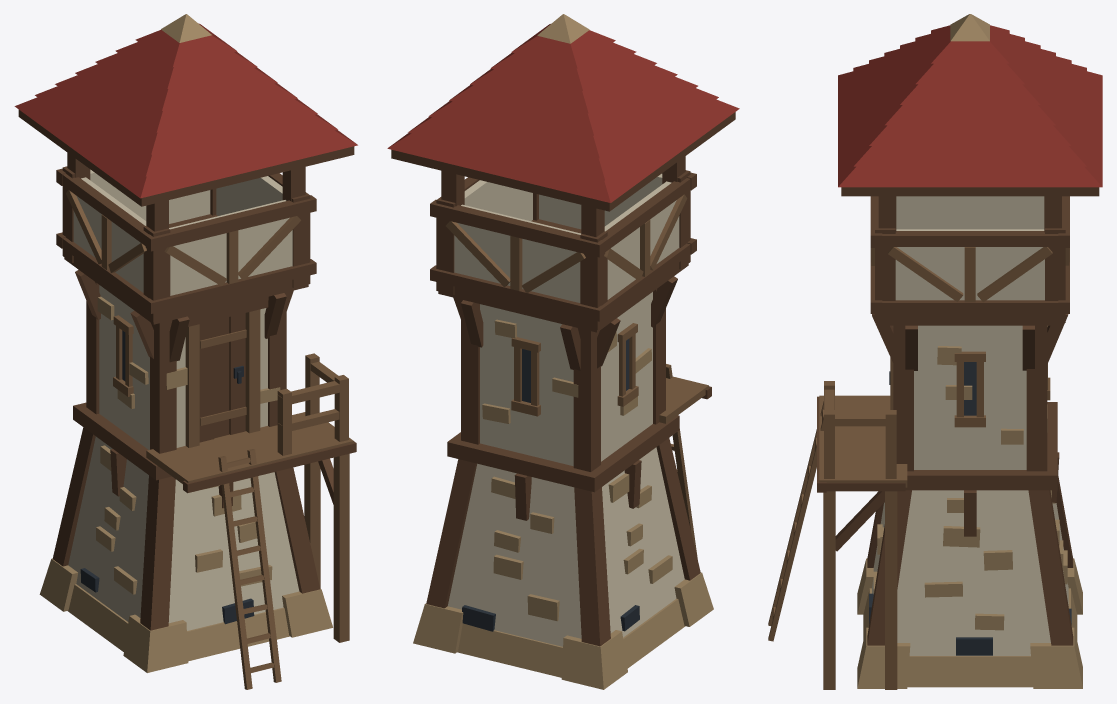
Rendered from var_watchtower.glb.
The picture shows the model from 3 angles, left to right: view 1: azimuth 30°, elevation 25°; view 2: azimuth 150°, elevation 25°; view 3: azimuth 270°, elevation 25°; orthographic projection. The views are drawn at different scales.
Parts seen in each view (by area): view 1: tower-shell, door-leaf, ladder-body; view 2: tower-shell, ladder-body; view 3: tower-shell, ladder-body.
Boxes of the visible parts, bbox=[...] form: tower-shell: bbox=[14, 14, 357, 672]; door-leaf: bbox=[199, 313, 246, 442]; ladder-body: bbox=[218, 449, 281, 689]; tower-shell: bbox=[387, 14, 739, 689]; ladder-body: bbox=[666, 364, 697, 558]; tower-shell: bbox=[817, 14, 1102, 689]; ladder-body: bbox=[768, 401, 823, 641].
Bounding box in the file's own units: 3.61 × 9.45 × 4.56.
